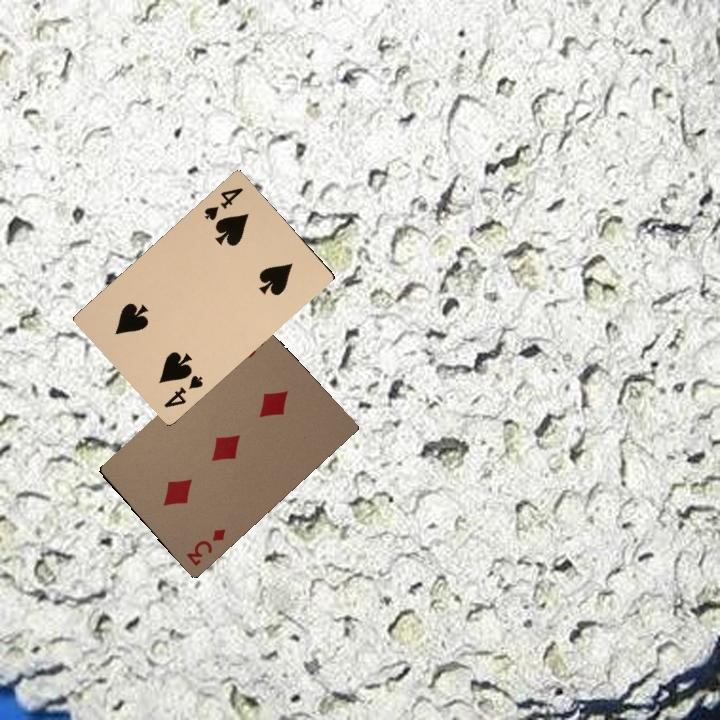3d: (182, 524, 229, 569)
4s: (200, 184, 246, 223), (160, 371, 206, 410)
